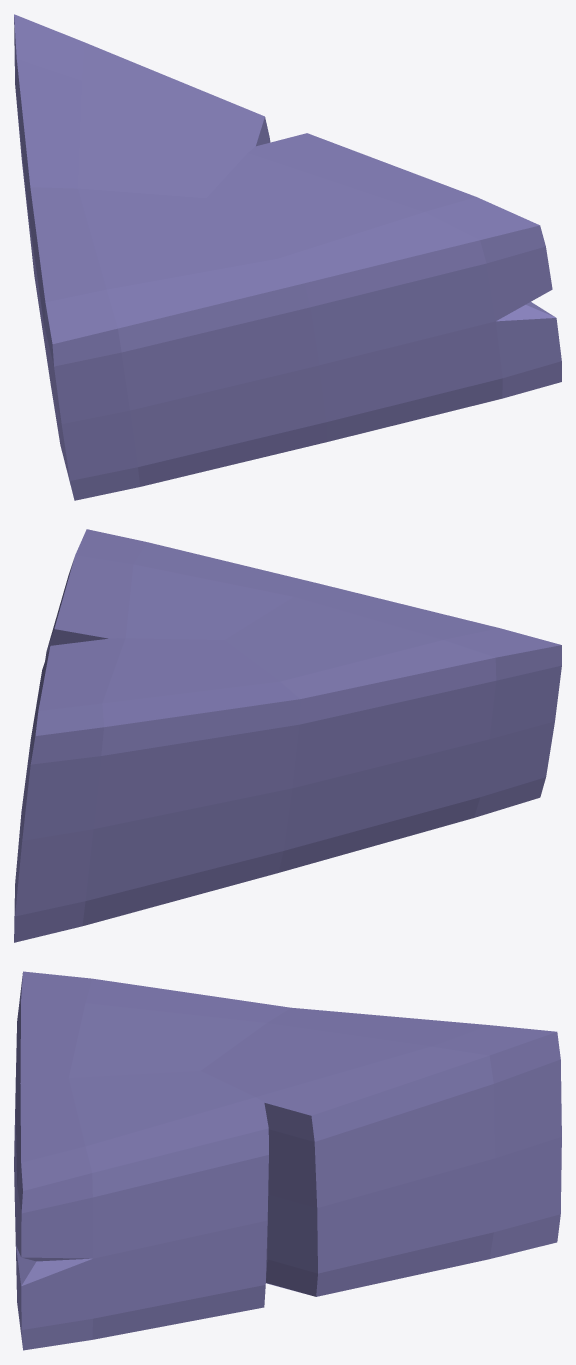
The model's file is Triangle_2.fbx.
3 renders of one model, top to bottom at view 1: azimuth 30°, elevation 25°; view 2: azimuth 150°, elevation 25°; view 3: azimuth 270°, elevation 25°, orthographic. The views are drawn at different scales.
Visible parts, largest first — view 1: triangle; view 2: triangle; view 3: triangle.
Part boxes in pixels (<box>): triangle: <box>14,14,561,500</box>; triangle: <box>14,529,561,942</box>; triangle: <box>14,971,561,1350</box>.
Size of the model in its own units: 1.86 by 0.7853 by 1.88.
